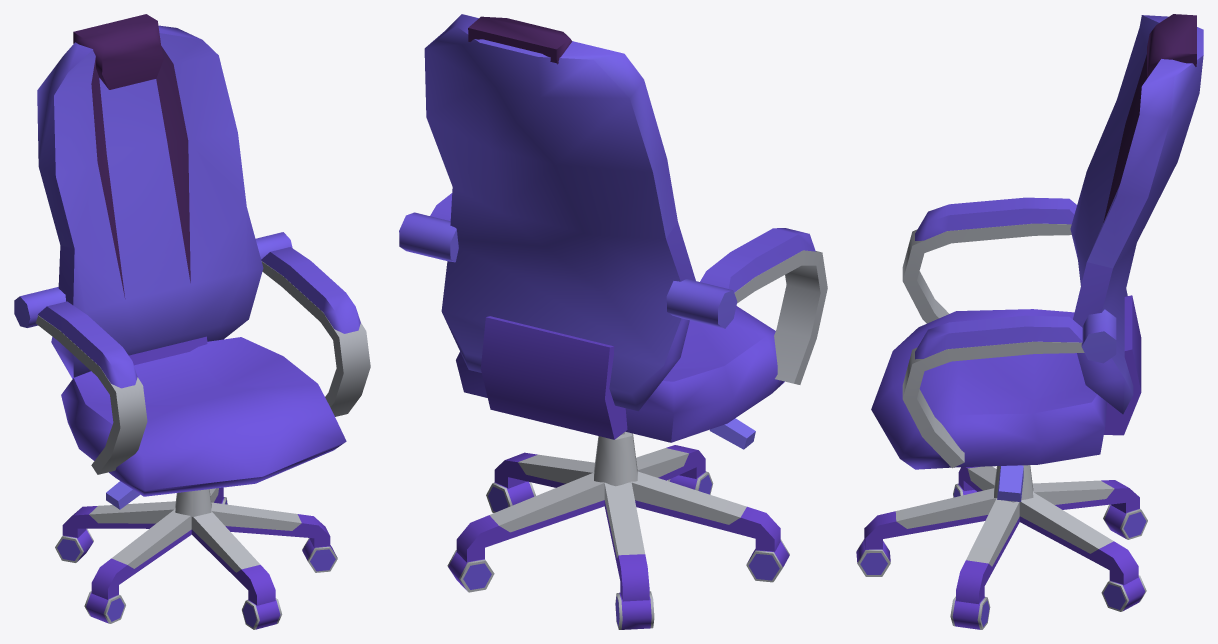
File: chair2.fbx
The picture shows the model from 3 angles, left to right: view 1: azimuth 30°, elevation 25°; view 2: azimuth 150°, elevation 25°; view 3: azimuth 270°, elevation 25°; orthographic projection. The views are drawn at different scales.
Parts seen in each view (by area): view 1: chair2; view 2: chair2; view 3: chair2.
Boxes of the visible parts, <box> form: chair2: <box>14,14,370,629</box>; chair2: <box>399,14,827,629</box>; chair2: <box>856,14,1203,629</box>.
Size of the model in its own units: 132 by 236 by 139.
